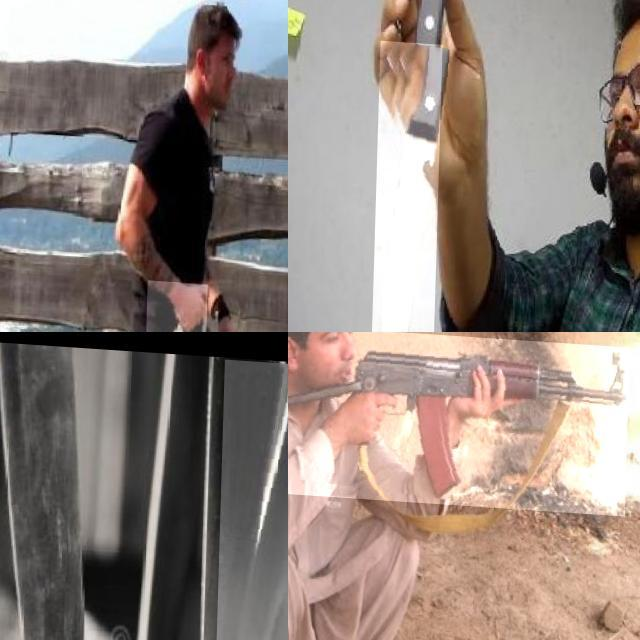-: (0, 353, 133, 640), (0, 341, 95, 640), (214, 352, 288, 640), (373, 38, 444, 332), (184, 355, 253, 640), (147, 278, 210, 332)
gun-knife-thesis - v11 Yolov5 augmented: (288, 332, 631, 508)
